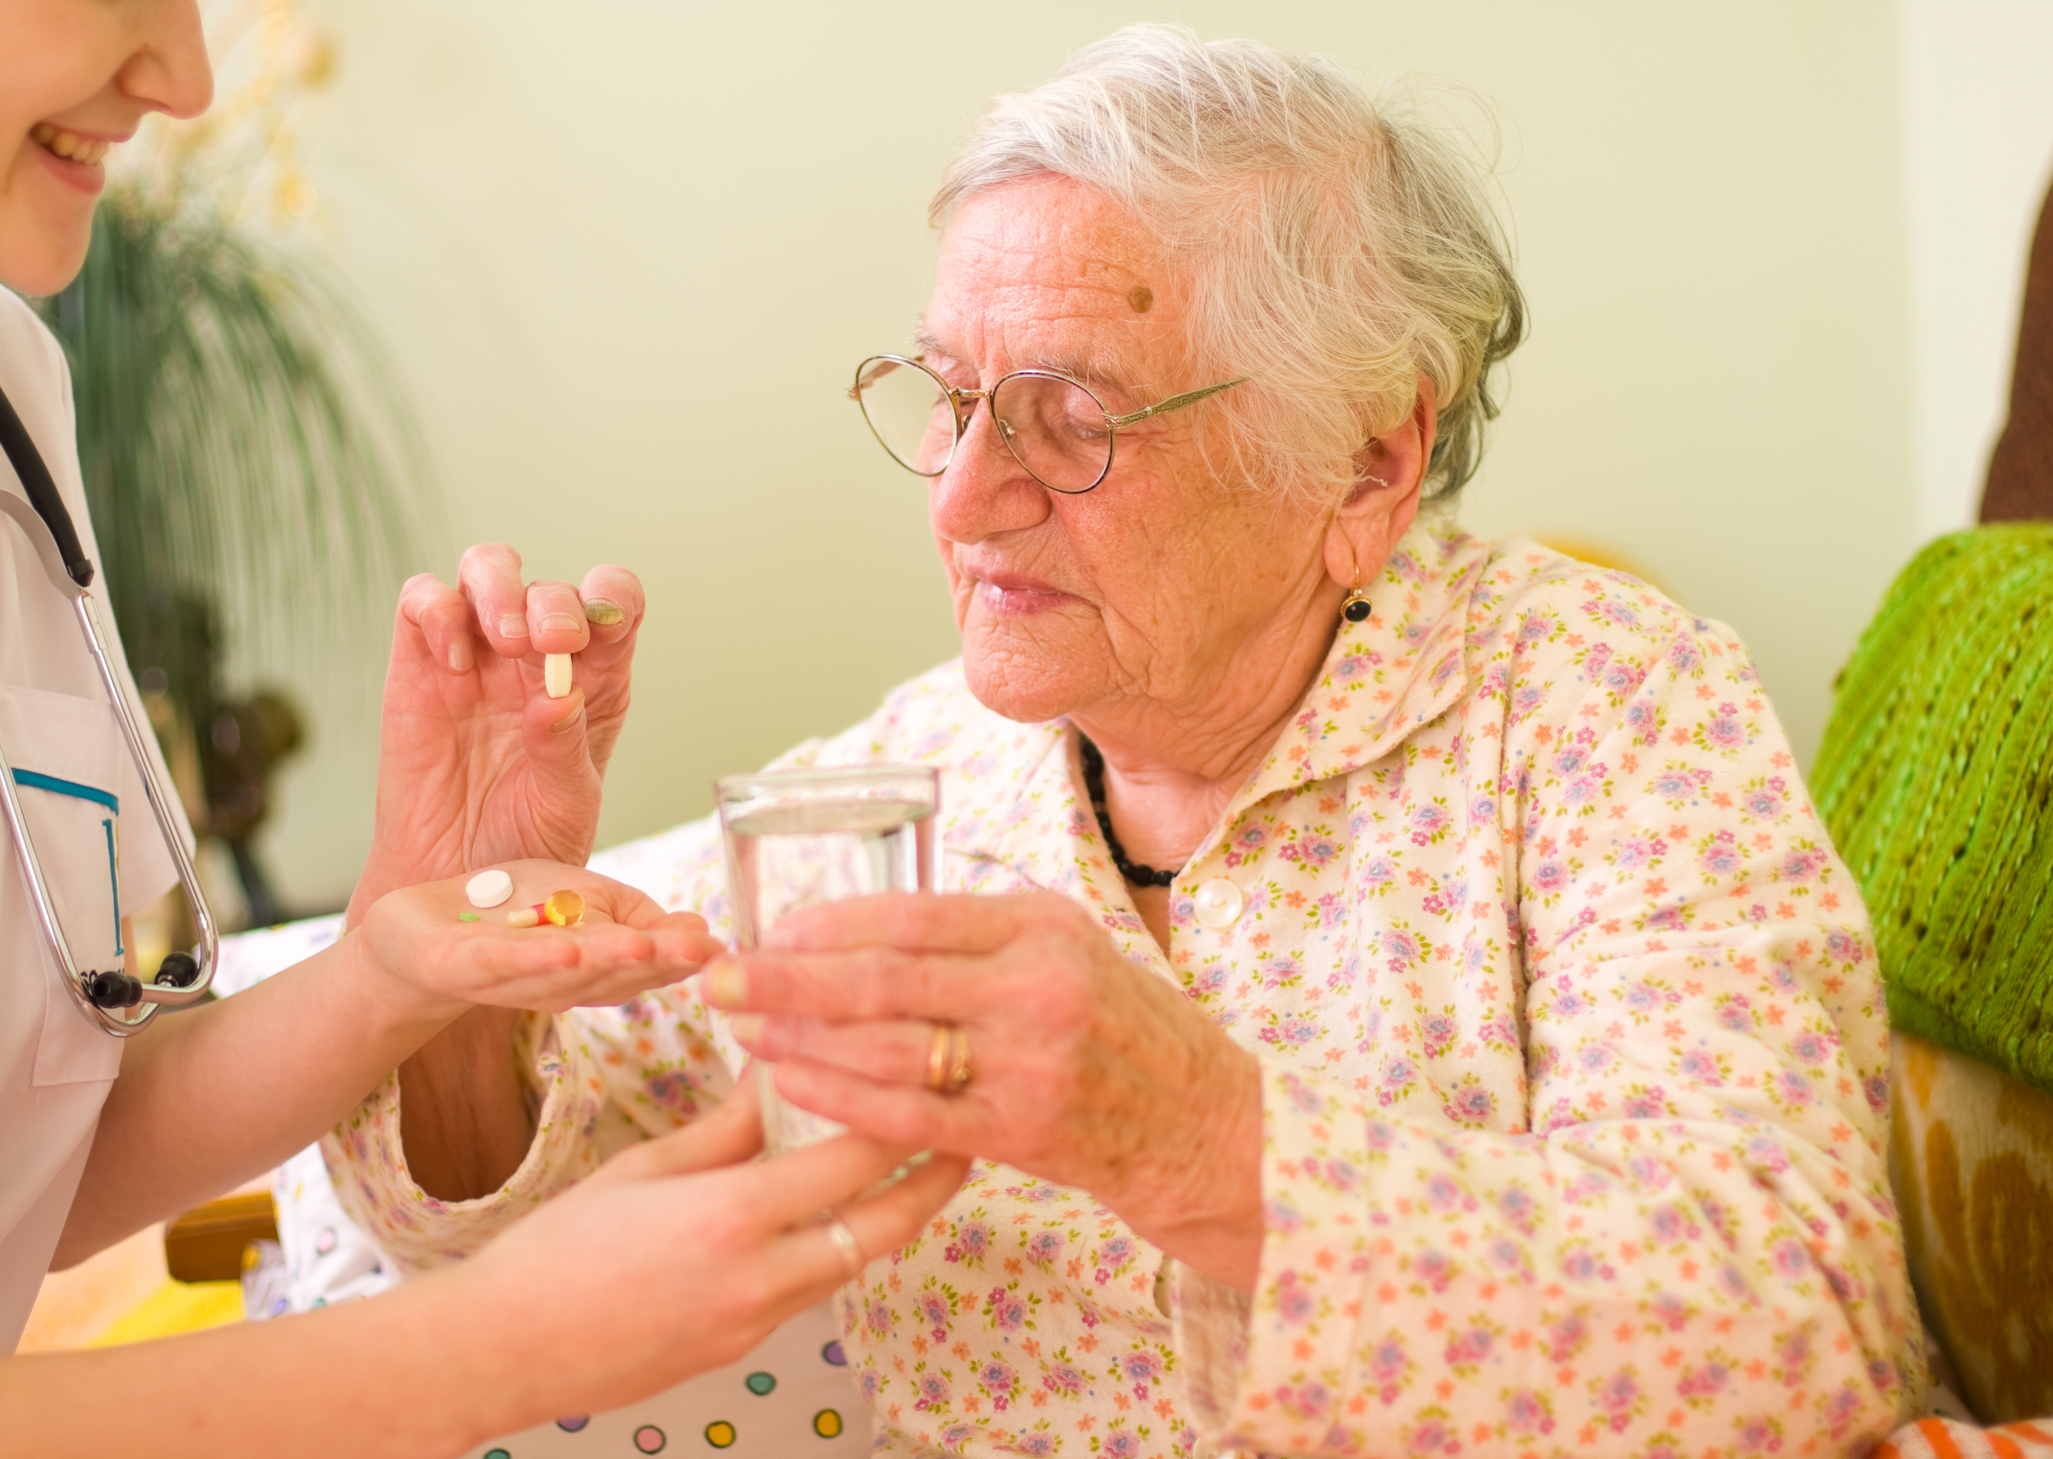glass of water: (722, 769, 948, 1165)
